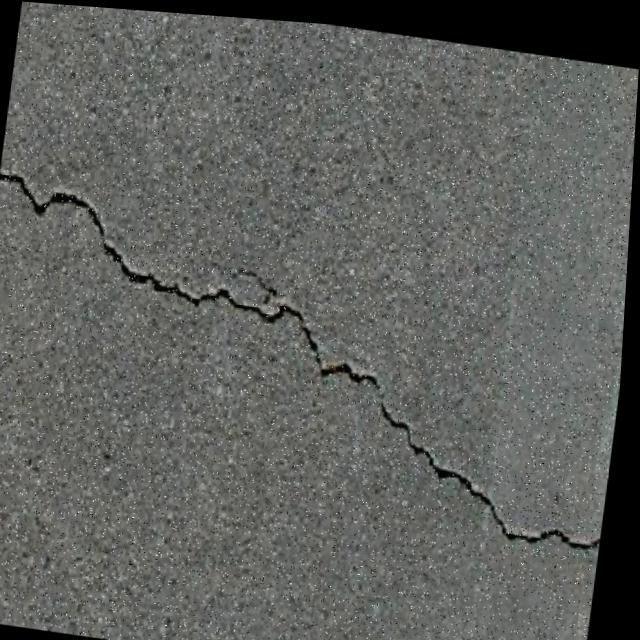Crack: (0, 142, 633, 564)
